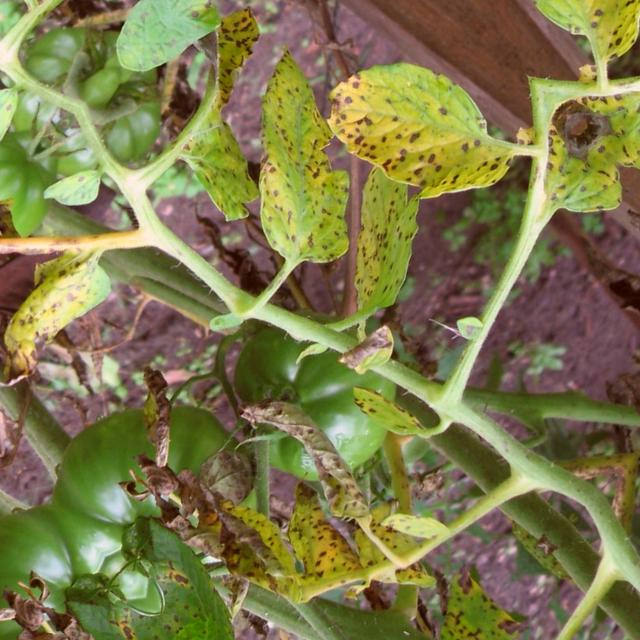Tomato Septoria leaf spot: (153, 31, 427, 305), (248, 0, 587, 207), (305, 5, 551, 250), (0, 221, 148, 407)
